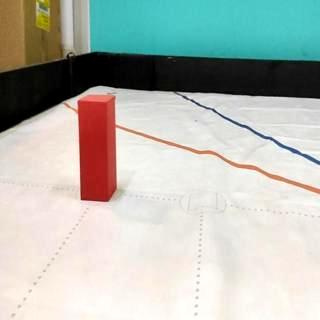redbox: (76, 95, 118, 201)
